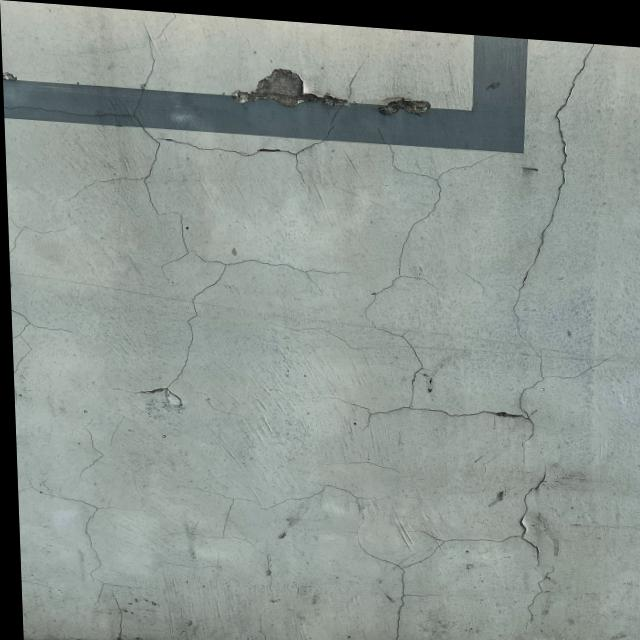crack: (4, 21, 370, 414), (326, 41, 625, 473), (231, 460, 572, 640)
spalling: (229, 61, 441, 122)
